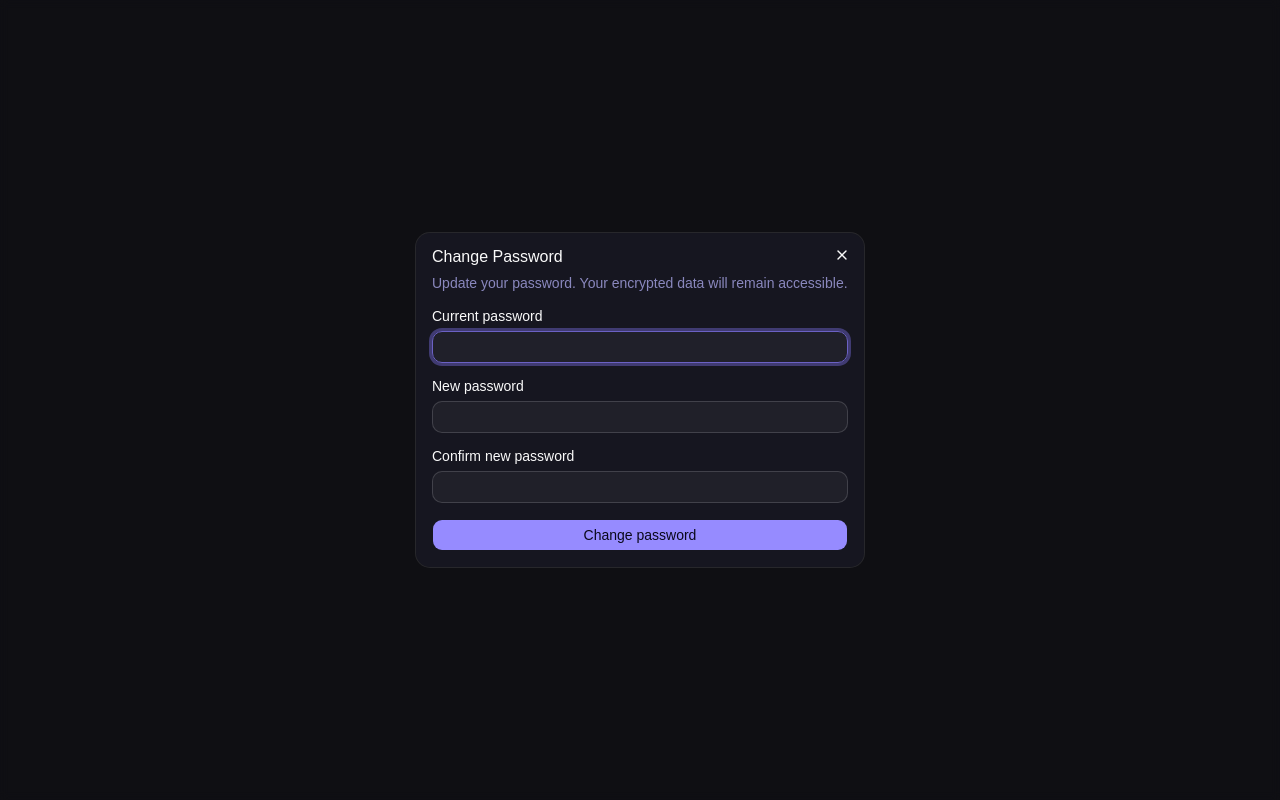
it: ChangePasswordDialog › shows validation errors on empty submit
The image size is (1280, 800).
Click the button "Change password".
click(640, 535)  # box [432,519,848,551]
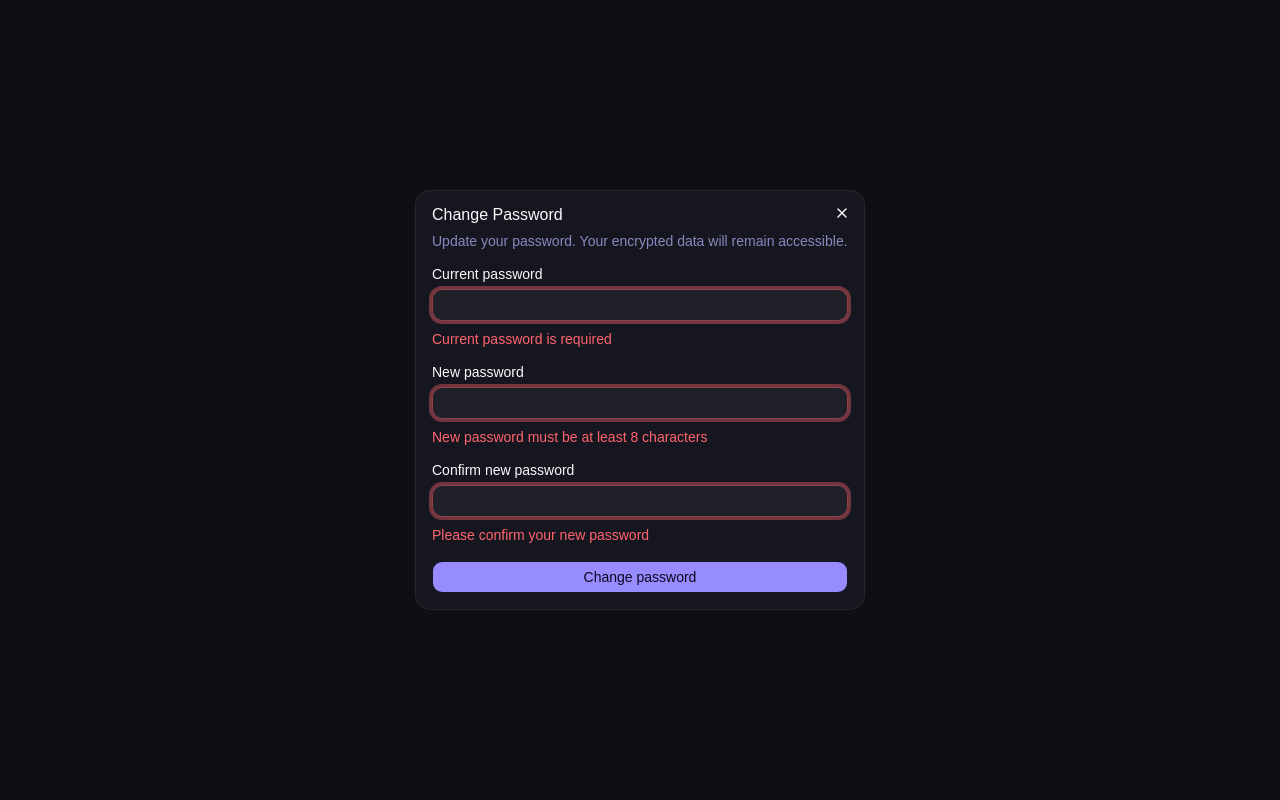
Expected: the message "Current password is required" is shown, [432,331,612,347]
